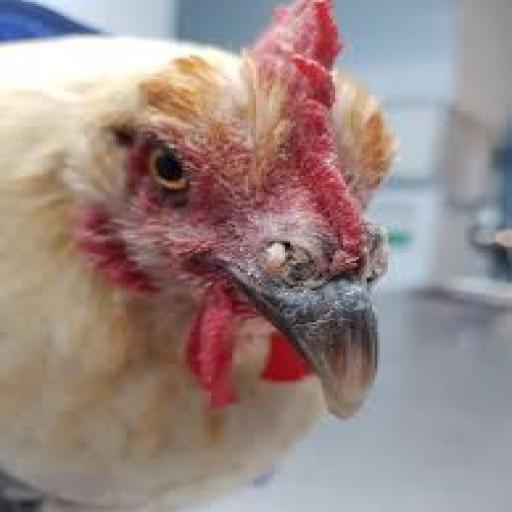disease: (203, 177, 405, 304), (257, 30, 393, 200)
